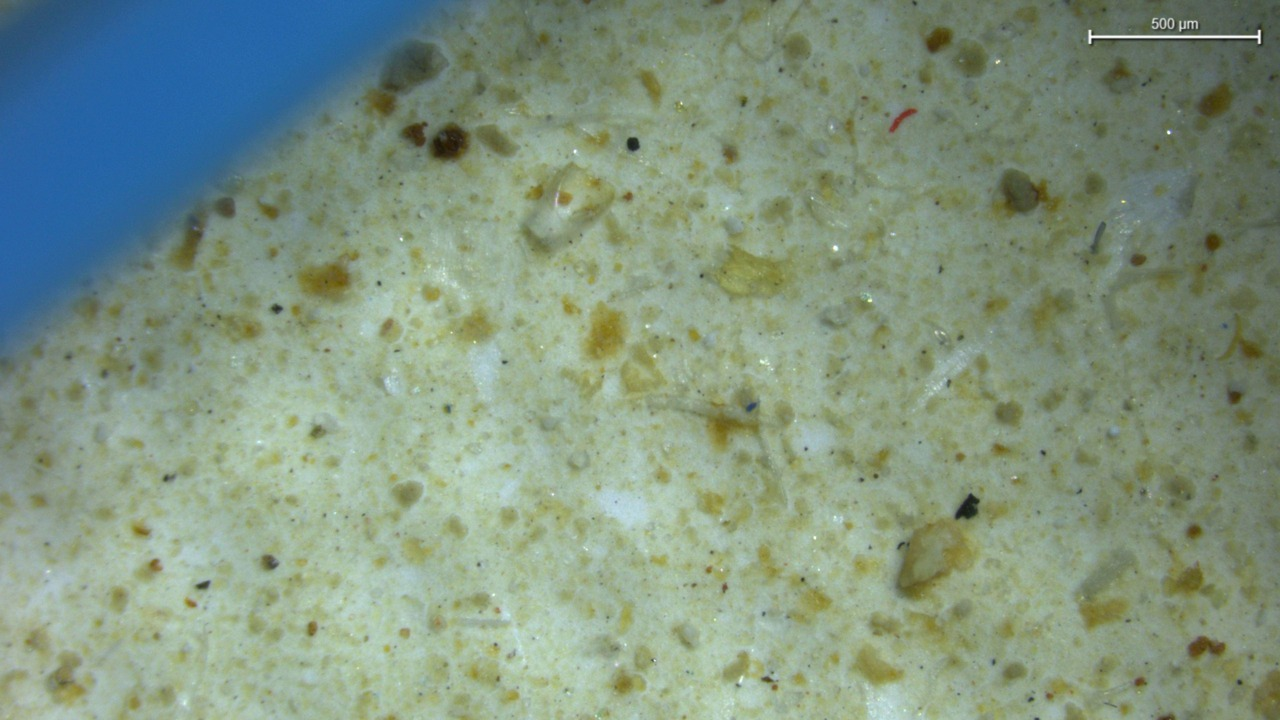microplastic_fragment: (525, 163, 614, 251), (898, 520, 976, 591), (713, 246, 785, 296)
